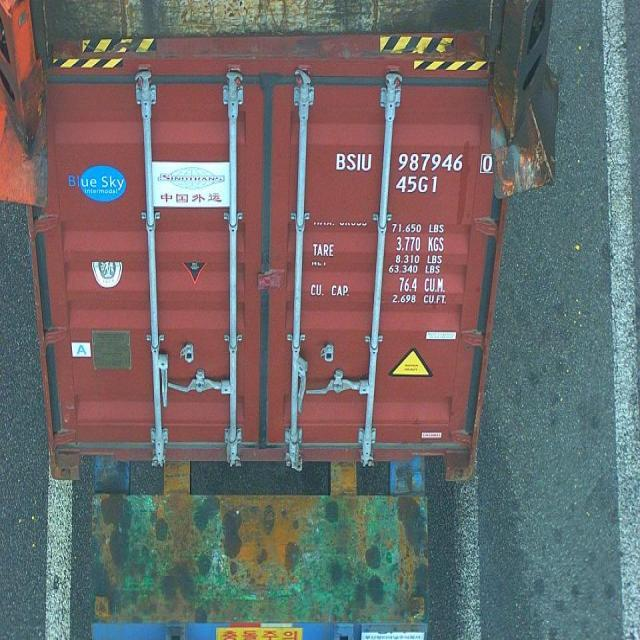ISO: (396, 173, 438, 197)
container_number: (335, 150, 497, 176)
